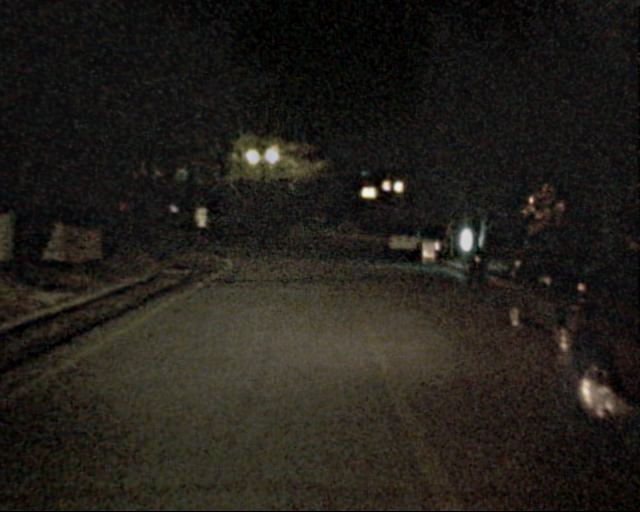person: (534, 229, 557, 286)
